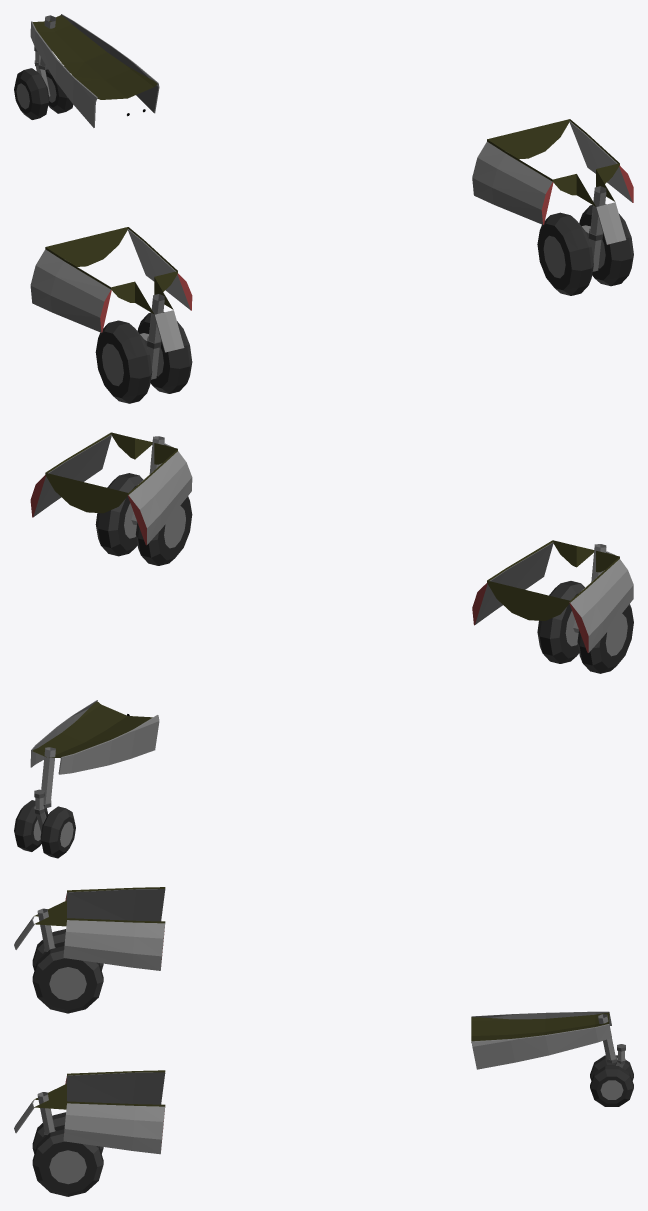
Rendered from Graer_B29NP.obj.
3 renders of one model, top to bottom at view 1: azimuth 30°, elevation 25°; view 2: azimuth 150°, elevation 25°; view 3: azimuth 270°, elevation 25°, orthographic. The views are drawn at different scales.
Parts seen in each view (by area): view 1: ShapeIndexedFaceSet.137_ShapeIndexedFaceSet.138, ShapeIndexedFaceSet.103_ShapeIndexedFaceSet.104, ShapeIndexedFaceSet.112_ShapeIndexedFaceSet.113, ShapeIndexedFaceSet.124_ShapeIndexedFaceSet.125, ShapeIndexedFaceSet.105_ShapeIndexedFaceSet.106, ShapeIndexedFaceSet.109_ShapeIndexedFaceSet.110, ShapeIndexedFaceSet.111_ShapeIndexedFaceSet.112, ShapeIndexedFaceSet.107_ShapeIndexedFaceSet.108, ShapeIndexedFaceSet.097_ShapeIndexedFaceSet.098, ShapeIndexedFaceSet.108_ShapeIndexedFaceSet.109, ShapeIndexedFaceSet.104_ShapeIndexedFaceSet.105, ShapeIndexedFaceSet.119_ShapeIndexedFaceSet.120 (+6 smaller); view 2: ShapeIndexedFaceSet.137_ShapeIndexedFaceSet.138, ShapeIndexedFaceSet.112_ShapeIndexedFaceSet.113, ShapeIndexedFaceSet.124_ShapeIndexedFaceSet.125, ShapeIndexedFaceSet.103_ShapeIndexedFaceSet.104, ShapeIndexedFaceSet.097_ShapeIndexedFaceSet.098, ShapeIndexedFaceSet.109_ShapeIndexedFaceSet.110, ShapeIndexedFaceSet.105_ShapeIndexedFaceSet.106, ShapeIndexedFaceSet.123_ShapeIndexedFaceSet.124, ShapeIndexedFaceSet.119_ShapeIndexedFaceSet.120, ShapeIndexedFaceSet.111_ShapeIndexedFaceSet.112, ShapeIndexedFaceSet.107_ShapeIndexedFaceSet.108, ShapeIndexedFaceSet.096_ShapeIndexedFaceSet.097 (+4 smaller); view 3: ShapeIndexedFaceSet.116_ShapeIndexedFaceSet.117, ShapeIndexedFaceSet.120_ShapeIndexedFaceSet.121, ShapeIndexedFaceSet.100_ShapeIndexedFaceSet.101, ShapeIndexedFaceSet.127_ShapeIndexedFaceSet.128, ShapeIndexedFaceSet.115_ShapeIndexedFaceSet.116, ShapeIndexedFaceSet.103_ShapeIndexedFaceSet.104, ShapeIndexedFaceSet.137_ShapeIndexedFaceSet.138, ShapeIndexedFaceSet.109_ShapeIndexedFaceSet.110, ShapeIndexedFaceSet.105_ShapeIndexedFaceSet.106, ShapeIndexedFaceSet.108_ShapeIndexedFaceSet.109, ShapeIndexedFaceSet.104_ShapeIndexedFaceSet.105, ShapeIndexedFaceSet.111_ShapeIndexedFaceSet.112 (+4 smaller).
Part boxes in pixels (left/top/right/bottom): ShapeIndexedFaceSet.137_ShapeIndexedFaceSet.138: left=45, top=119, right=619, bottom=314; ShapeIndexedFaceSet.103_ShapeIndexedFaceSet.104: left=33, top=15, right=157, bottom=99; ShapeIndexedFaceSet.112_ShapeIndexedFaceSet.113: left=30, top=249, right=110, bottom=332; ShapeIndexedFaceSet.124_ShapeIndexedFaceSet.125: left=472, top=141, right=552, bottom=224; ShapeIndexedFaceSet.105_ShapeIndexedFaceSet.106: left=95, top=312, right=189, bottom=403; ShapeIndexedFaceSet.109_ShapeIndexedFaceSet.110: left=537, top=204, right=631, bottom=295; ShapeIndexedFaceSet.111_ShapeIndexedFaceSet.112: left=540, top=205, right=633, bottom=295; ShapeIndexedFaceSet.107_ShapeIndexedFaceSet.108: left=98, top=313, right=192, bottom=403; ShapeIndexedFaceSet.097_ShapeIndexedFaceSet.098: left=30, top=22, right=96, bottom=127; ShapeIndexedFaceSet.108_ShapeIndexedFaceSet.109: left=543, top=186, right=606, bottom=278; ShapeIndexedFaceSet.104_ShapeIndexedFaceSet.105: left=102, top=294, right=164, bottom=386; ShapeIndexedFaceSet.119_ShapeIndexedFaceSet.120: left=569, top=121, right=632, bottom=202; ShapeIndexedFaceSet.137_ShapeIndexedFaceSet.138: left=45, top=432, right=619, bottom=620; ShapeIndexedFaceSet.112_ShapeIndexedFaceSet.113: left=570, top=559, right=633, bottom=652; ShapeIndexedFaceSet.124_ShapeIndexedFaceSet.125: left=128, top=451, right=192, bottom=544; ShapeIndexedFaceSet.103_ShapeIndexedFaceSet.104: left=32, top=701, right=152, bottom=757; ShapeIndexedFaceSet.097_ShapeIndexedFaceSet.098: left=59, top=715, right=159, bottom=774; ShapeIndexedFaceSet.109_ShapeIndexedFaceSet.110: left=98, top=473, right=192, bottom=565; ShapeIndexedFaceSet.105_ShapeIndexedFaceSet.106: left=539, top=581, right=633, bottom=673; ShapeIndexedFaceSet.123_ShapeIndexedFaceSet.124: left=475, top=542, right=553, bottom=624; ShapeIndexedFaceSet.119_ShapeIndexedFaceSet.120: left=33, top=435, right=111, bottom=516; ShapeIndexedFaceSet.111_ShapeIndexedFaceSet.112: left=95, top=475, right=189, bottom=565; ShapeIndexedFaceSet.107_ShapeIndexedFaceSet.108: left=537, top=583, right=631, bottom=673; ShapeIndexedFaceSet.096_ShapeIndexedFaceSet.097: left=15, top=800, right=75, bottom=858; ShapeIndexedFaceSet.116_ShapeIndexedFaceSet.117: left=63, top=1103, right=165, bottom=1154; ShapeIndexedFaceSet.120_ShapeIndexedFaceSet.121: left=63, top=920, right=165, bottom=970; ShapeIndexedFaceSet.100_ShapeIndexedFaceSet.101: left=471, top=1024, right=611, bottom=1069; ShapeIndexedFaceSet.127_ShapeIndexedFaceSet.128: left=66, top=1072, right=165, bottom=1104; ShapeIndexedFaceSet.115_ShapeIndexedFaceSet.116: left=66, top=889, right=165, bottom=921; ShapeIndexedFaceSet.103_ShapeIndexedFaceSet.104: left=471, top=1012, right=609, bottom=1042; ShapeIndexedFaceSet.137_ShapeIndexedFaceSet.138: left=34, top=887, right=165, bottom=1109; ShapeIndexedFaceSet.109_ShapeIndexedFaceSet.110: left=32, top=1112, right=103, bottom=1193; ShapeIndexedFaceSet.105_ShapeIndexedFaceSet.106: left=32, top=929, right=103, bottom=1010; ShapeIndexedFaceSet.108_ShapeIndexedFaceSet.109: left=37, top=1092, right=86, bottom=1184; ShapeIndexedFaceSet.104_ShapeIndexedFaceSet.105: left=37, top=908, right=86, bottom=1000; ShapeIndexedFaceSet.111_ShapeIndexedFaceSet.112: left=32, top=1116, right=103, bottom=1196.
Bounding box in the file's own units: 105 × 21.99 × 119.
